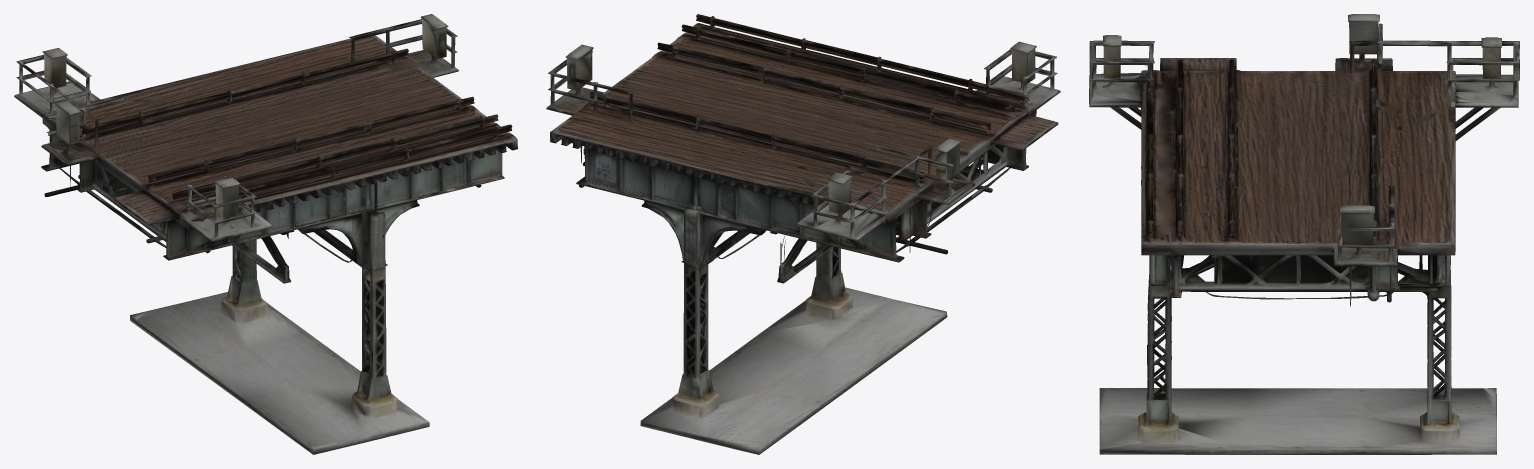
File: el_bent.glb
The picture shows the model from 3 angles, left to right: view 1: azimuth 30°, elevation 25°; view 2: azimuth 150°, elevation 25°; view 3: azimuth 270°, elevation 25°; orthographic projection. The views are drawn at different scales.
Visible parts, largest first — view 1: node_0; view 2: node_0; view 3: node_0.
Boxes of the visible parts, x1=… form: node_0: x1=14, y1=14, x2=517, y2=454; node_0: x1=546, y1=14, x2=1060, y2=454; node_0: x1=1089, y1=14, x2=1519, y2=454.
Bounding box in the file's own units: 0.8731 × 0.6185 × 0.7717.
Materials: 1 (1 with a texture image).
